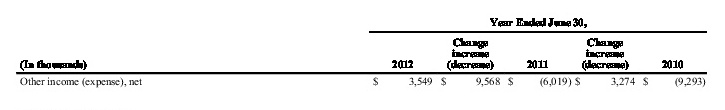table: (0, 0, 725, 110)
